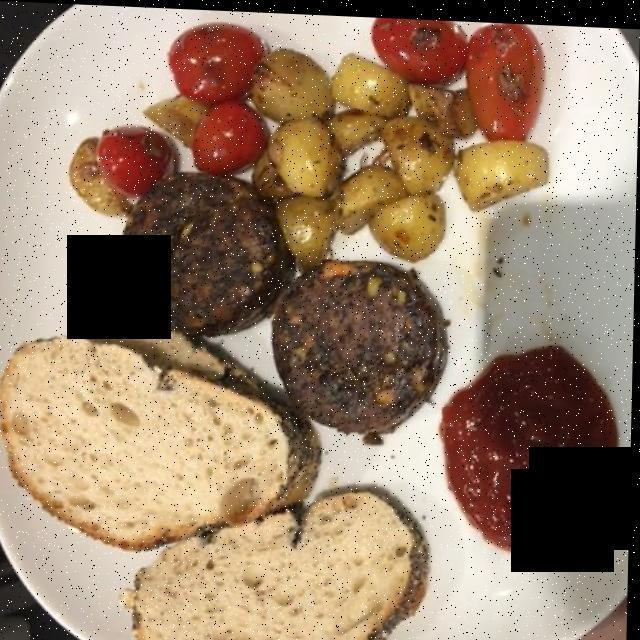bread: (11, 303, 435, 640)
ketchup: (449, 339, 614, 547)
potatoes: (153, 36, 569, 254)
tomato: (98, 17, 542, 196)
veggie-burger: (135, 173, 450, 431)
